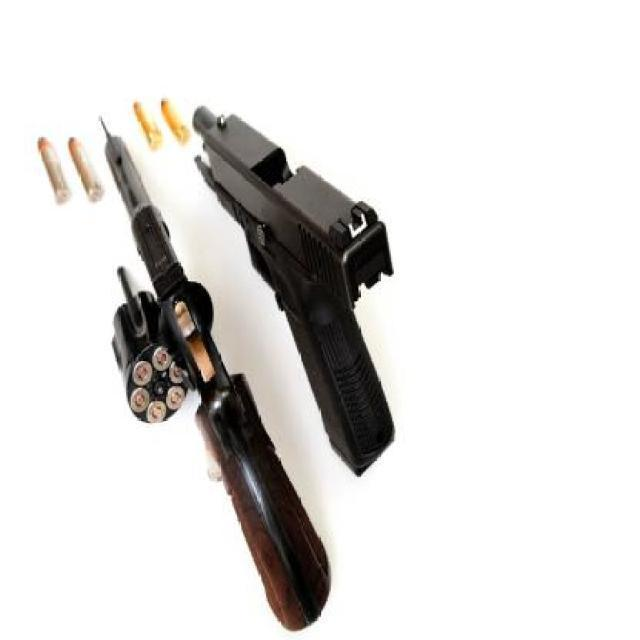gun: (95, 113, 331, 632), (190, 104, 396, 478)
